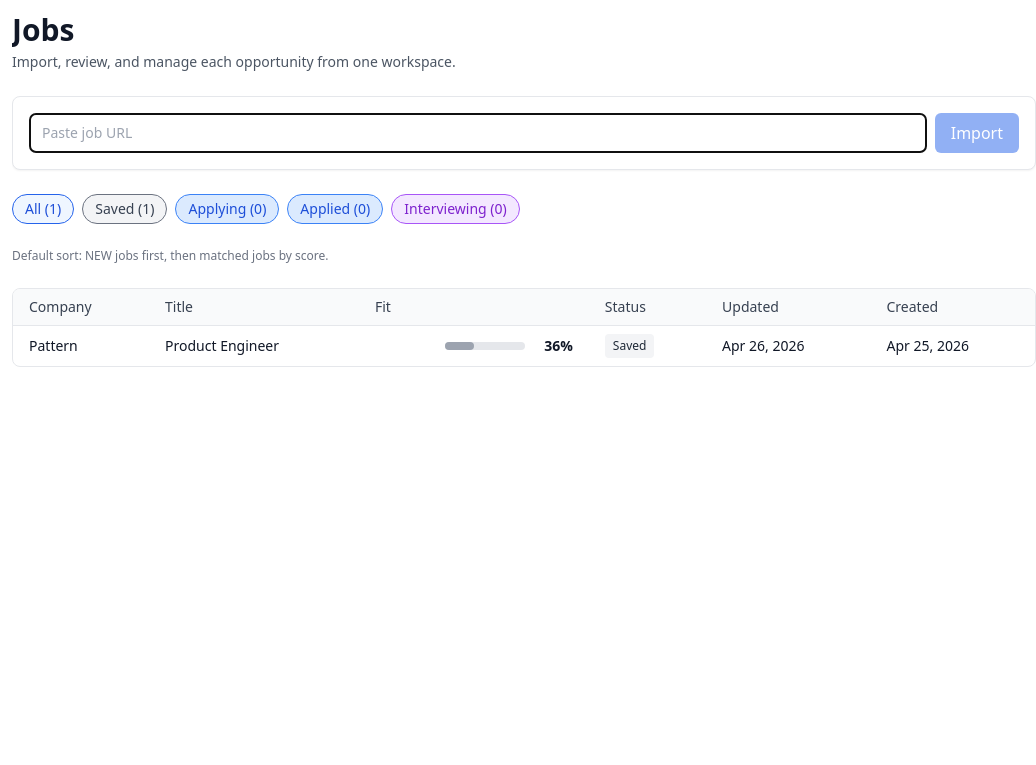
Test: JobsPageClient › labels a 36 percent fit as a moderate match
The width and height of the screenshot is (1036, 765).
Click the row with test id "job-row": click(524, 346) [13, 326, 1035, 366]
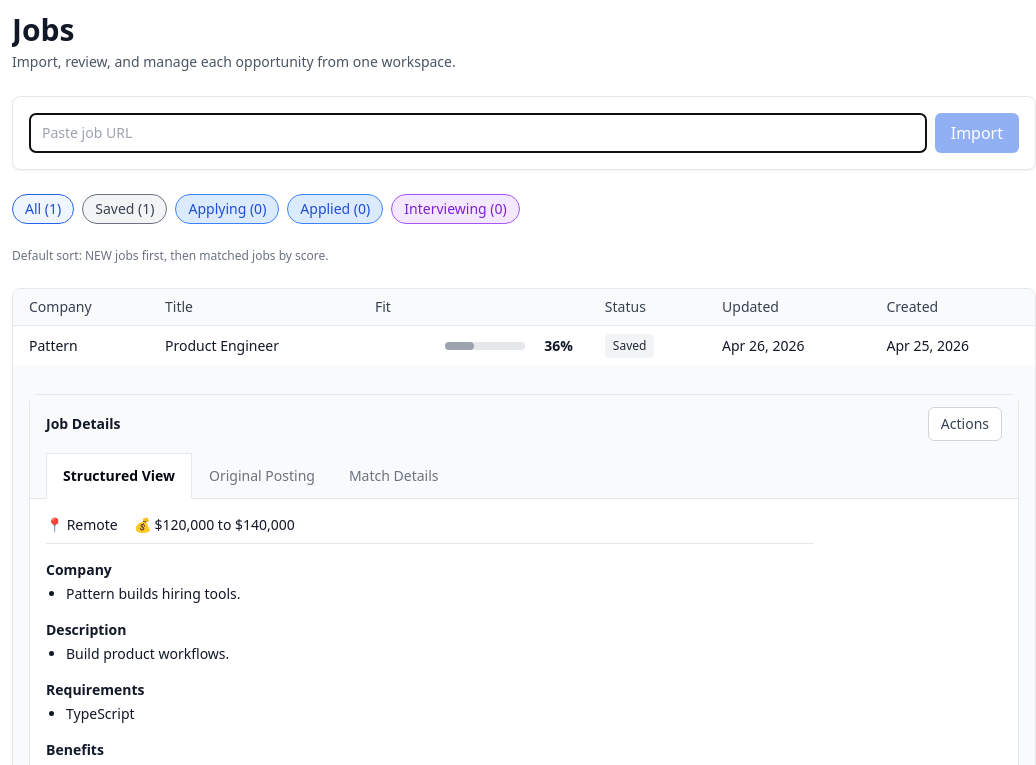
Click the tab "Match Details": click(394, 476) [332, 453, 456, 499]
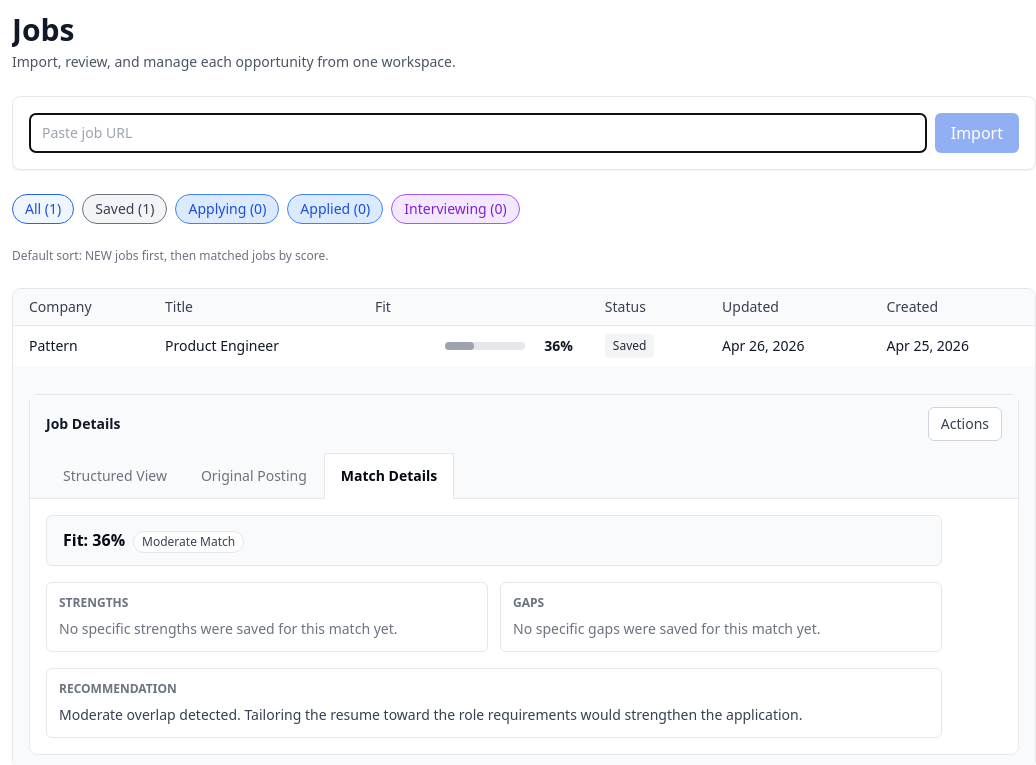
Expected: the heading "Fit: 36%" is shown, [63, 528, 125, 552]
Expected: the text "Moderate Match" is shown, [133, 531, 244, 553]
Expected: the text "Moderate overlap detected. Tailoring the resume toward the role requirements would strengthen the application." is shown, [59, 705, 802, 724]
